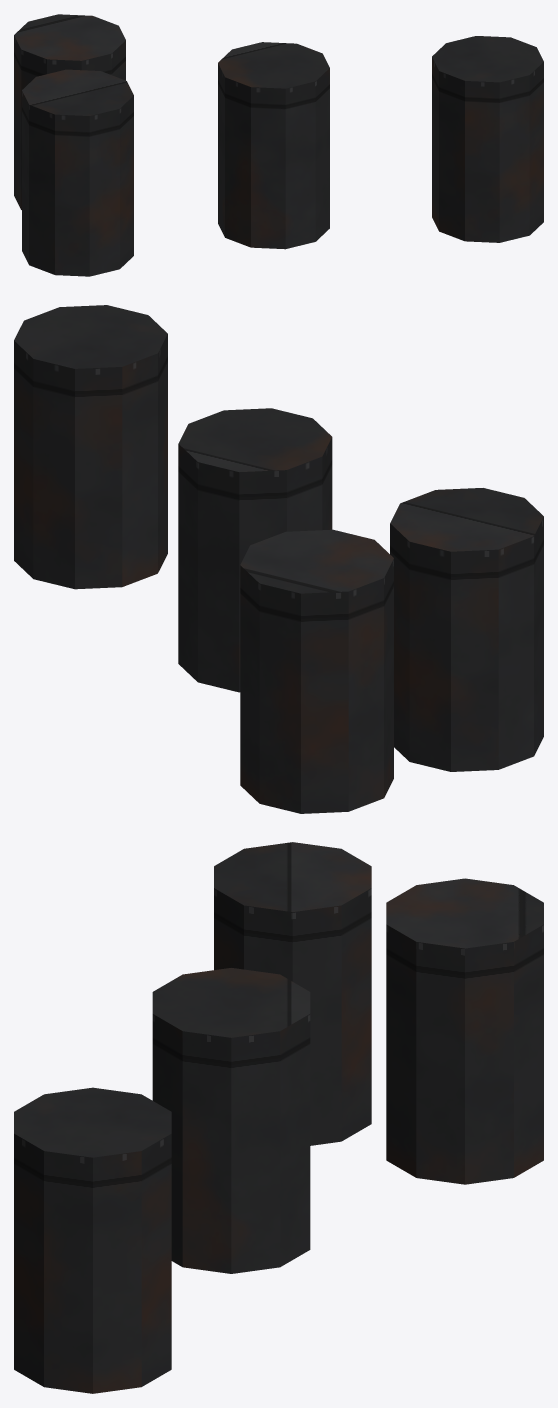
File: B_drums.glb
3 views of the same model, one above another, from view 1: azimuth 30°, elevation 25°; view 2: azimuth 150°, elevation 25°; view 3: azimuth 270°, elevation 25° (orthographic). The views are drawn at different scales.
Visible parts, largest first — view 1: B_drums; view 2: B_drums; view 3: B_drums.
Part boxes in pixels (x1,y1,x2,y2): B_drums: (14, 14, 543, 276); B_drums: (14, 305, 543, 813); B_drums: (14, 842, 543, 1393).
Bounding box in the file's own units: 2.52 × 0.88 × 1.79.
Materials: 1 (1 with a texture image).
